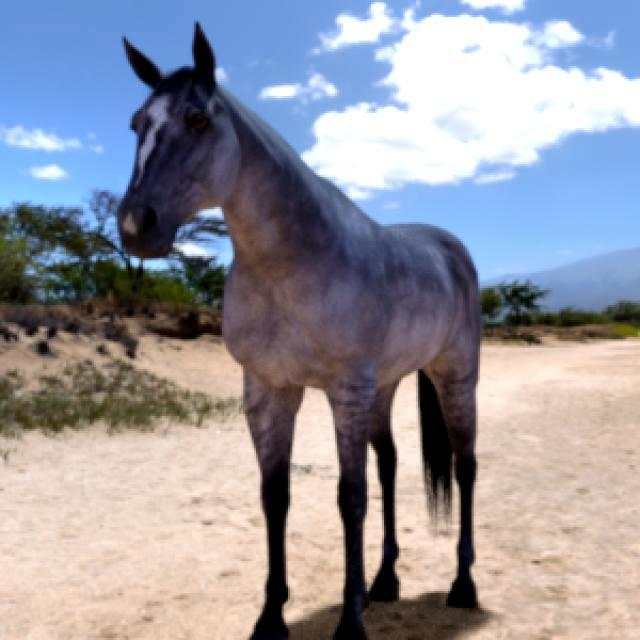horse: (118, 25, 481, 639)
